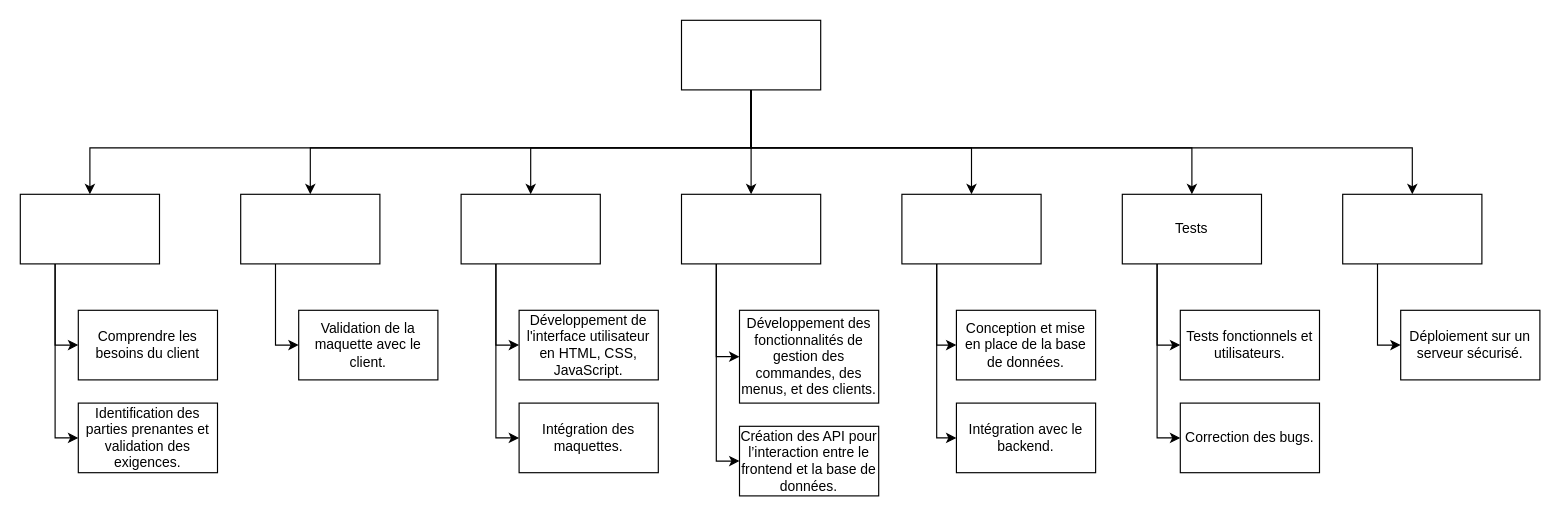
Image size: 1560x516. Some labels were removed from this diagram. The shapes that lost their labels are listed below. From the top down, each one's centre as x and y in pixels, then its label:
At pixel 750 54: "Site Web".
At pixel 89 228: "Cadrage du Projet".
At pixel 310 228: "Conception UX/UI".
At pixel 530 228: "Developpement Fontend".
At pixel 750 228: "Developpement Backend".
At pixel 971 228: "Base de données".
At pixel 1412 228: "Mise en production".
